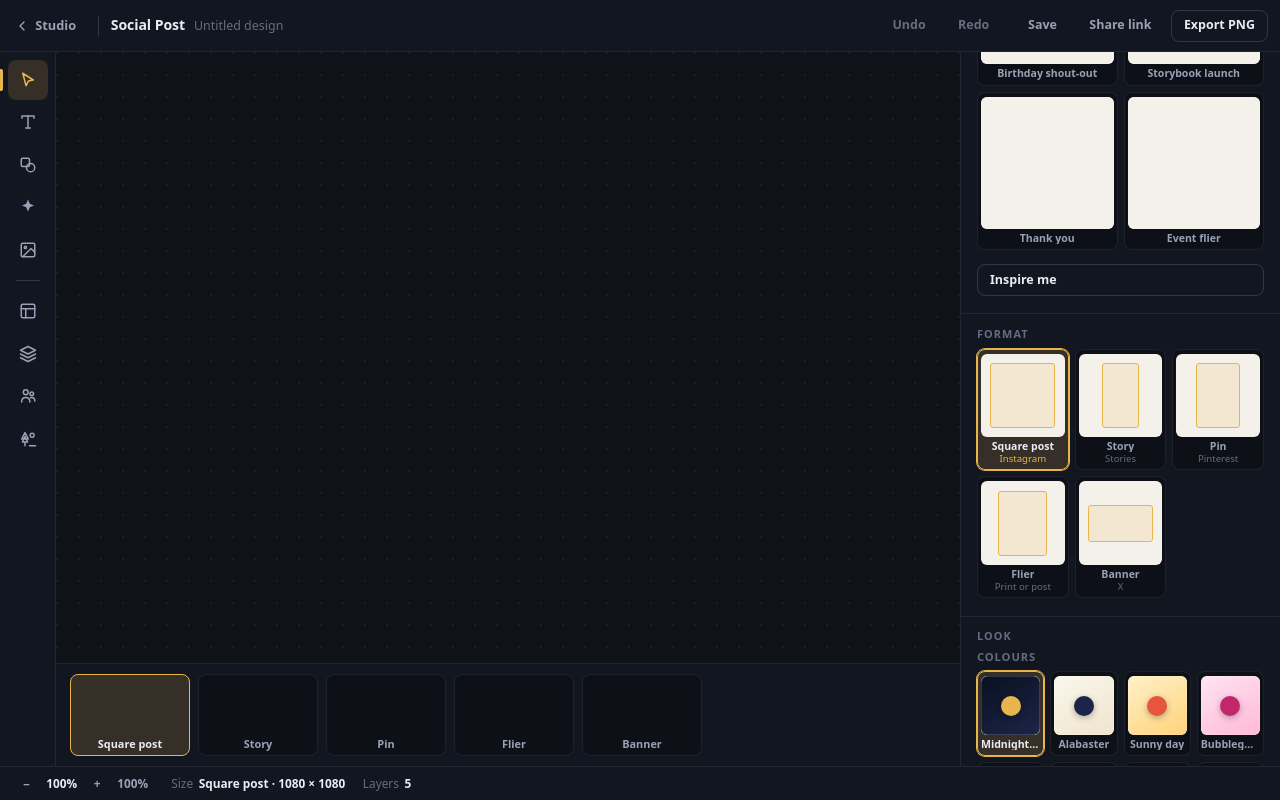
Test: social post designer › changes format and undoes the format with the layout
The width and height of the screenshot is (1280, 800).
(page scrolled)
Click the button "Story Stories": click(1121, 409) [1075,348,1166,470]
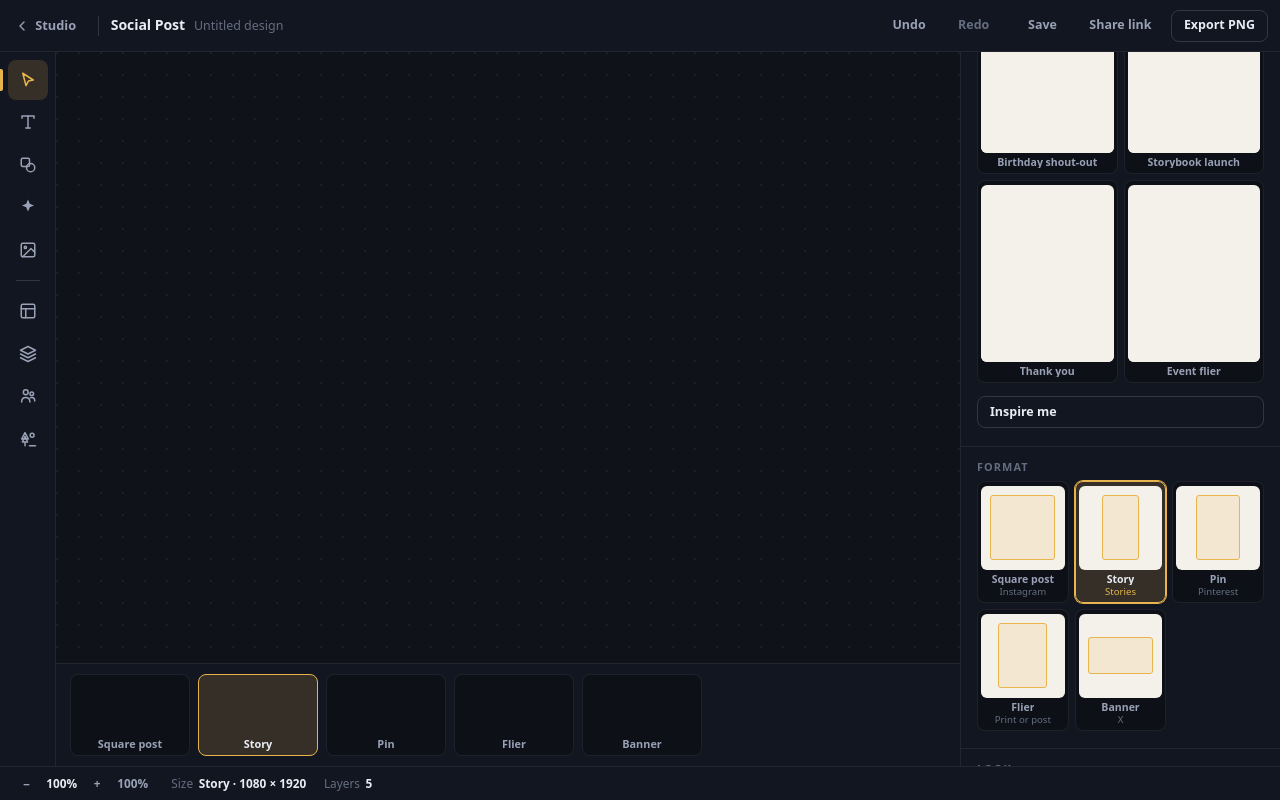
Check: the text "Story · 1080 × 1920" is shown, box [199,777,306,790]
Click the button "Undo": click(909, 26) [879,10,939,42]
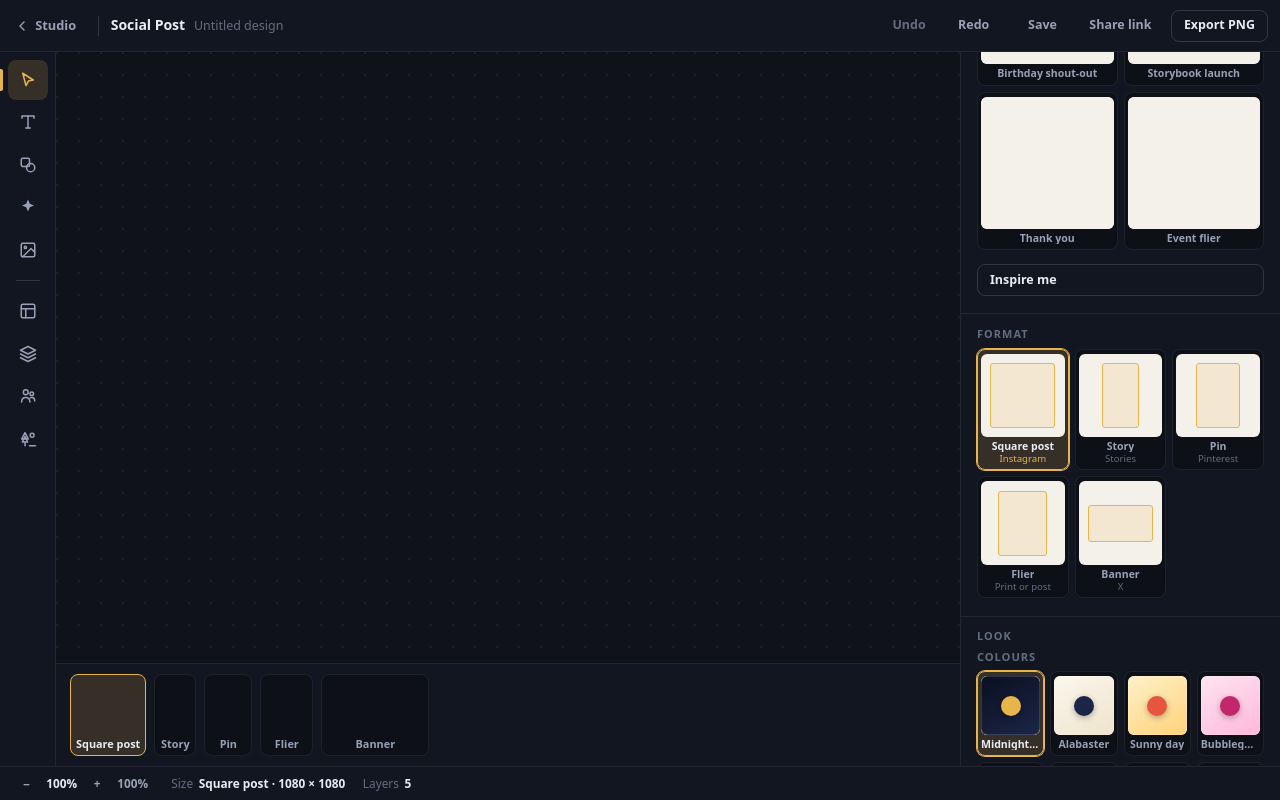
Check: the text "Square post · 1080 × 1080" is shown, box [199,777,345,790]
